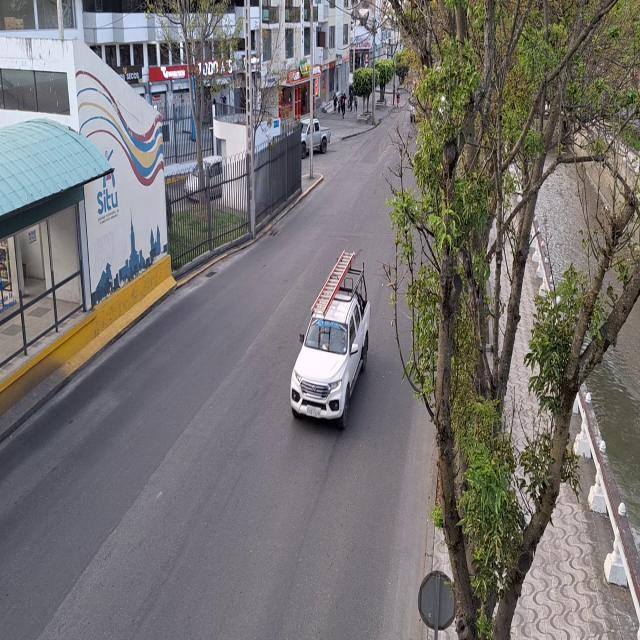CMT: (293, 253, 368, 430)
